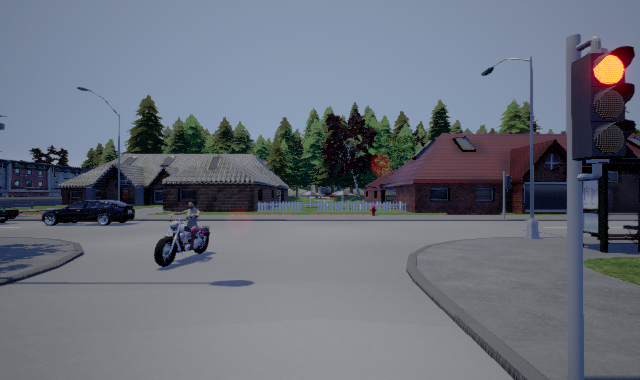motobike: (154, 200, 210, 267)
traffic_light: (569, 44, 636, 160)
vehicle: (42, 200, 135, 226)
